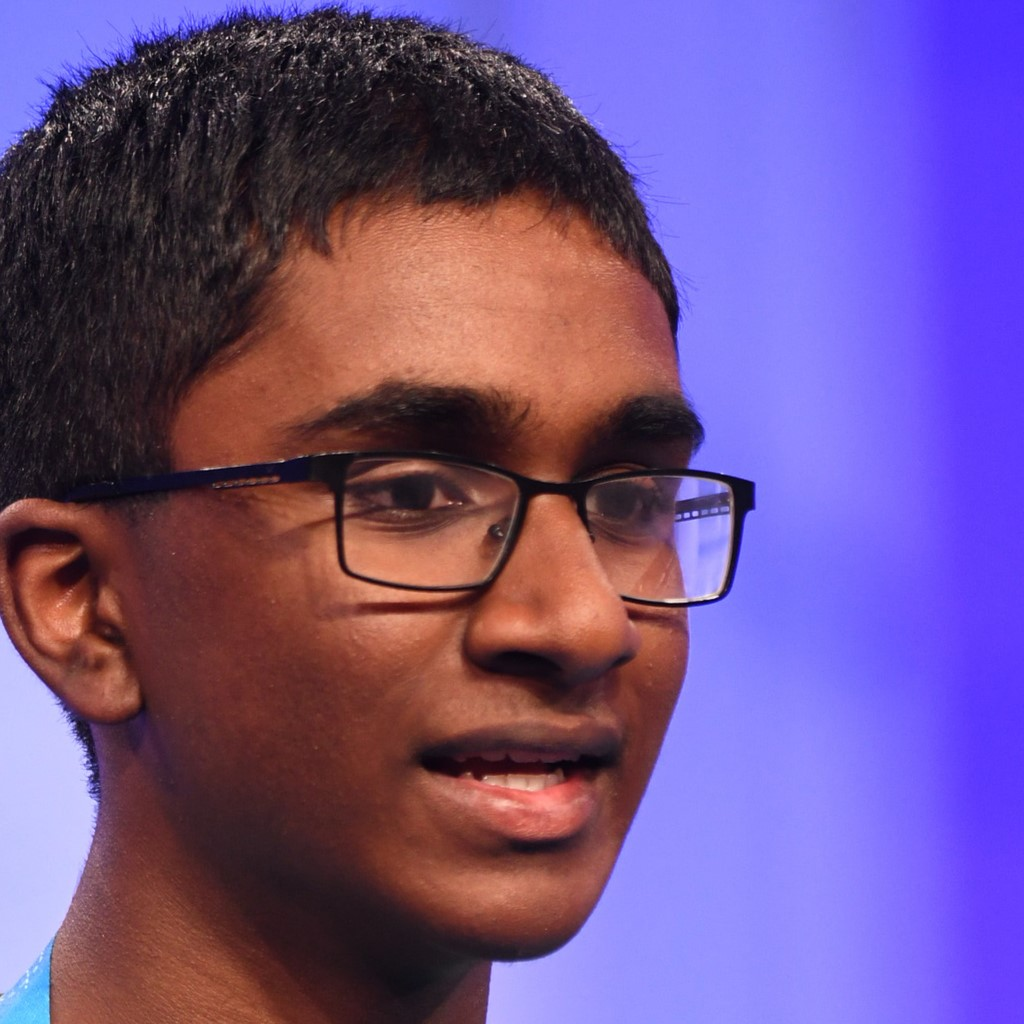sin_mascara: (156, 129, 710, 946)
